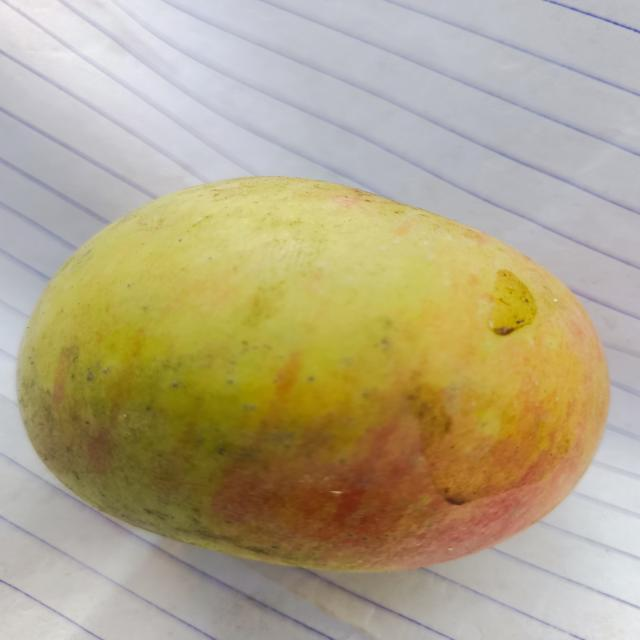Fresh Apple: (32, 175, 600, 567)
